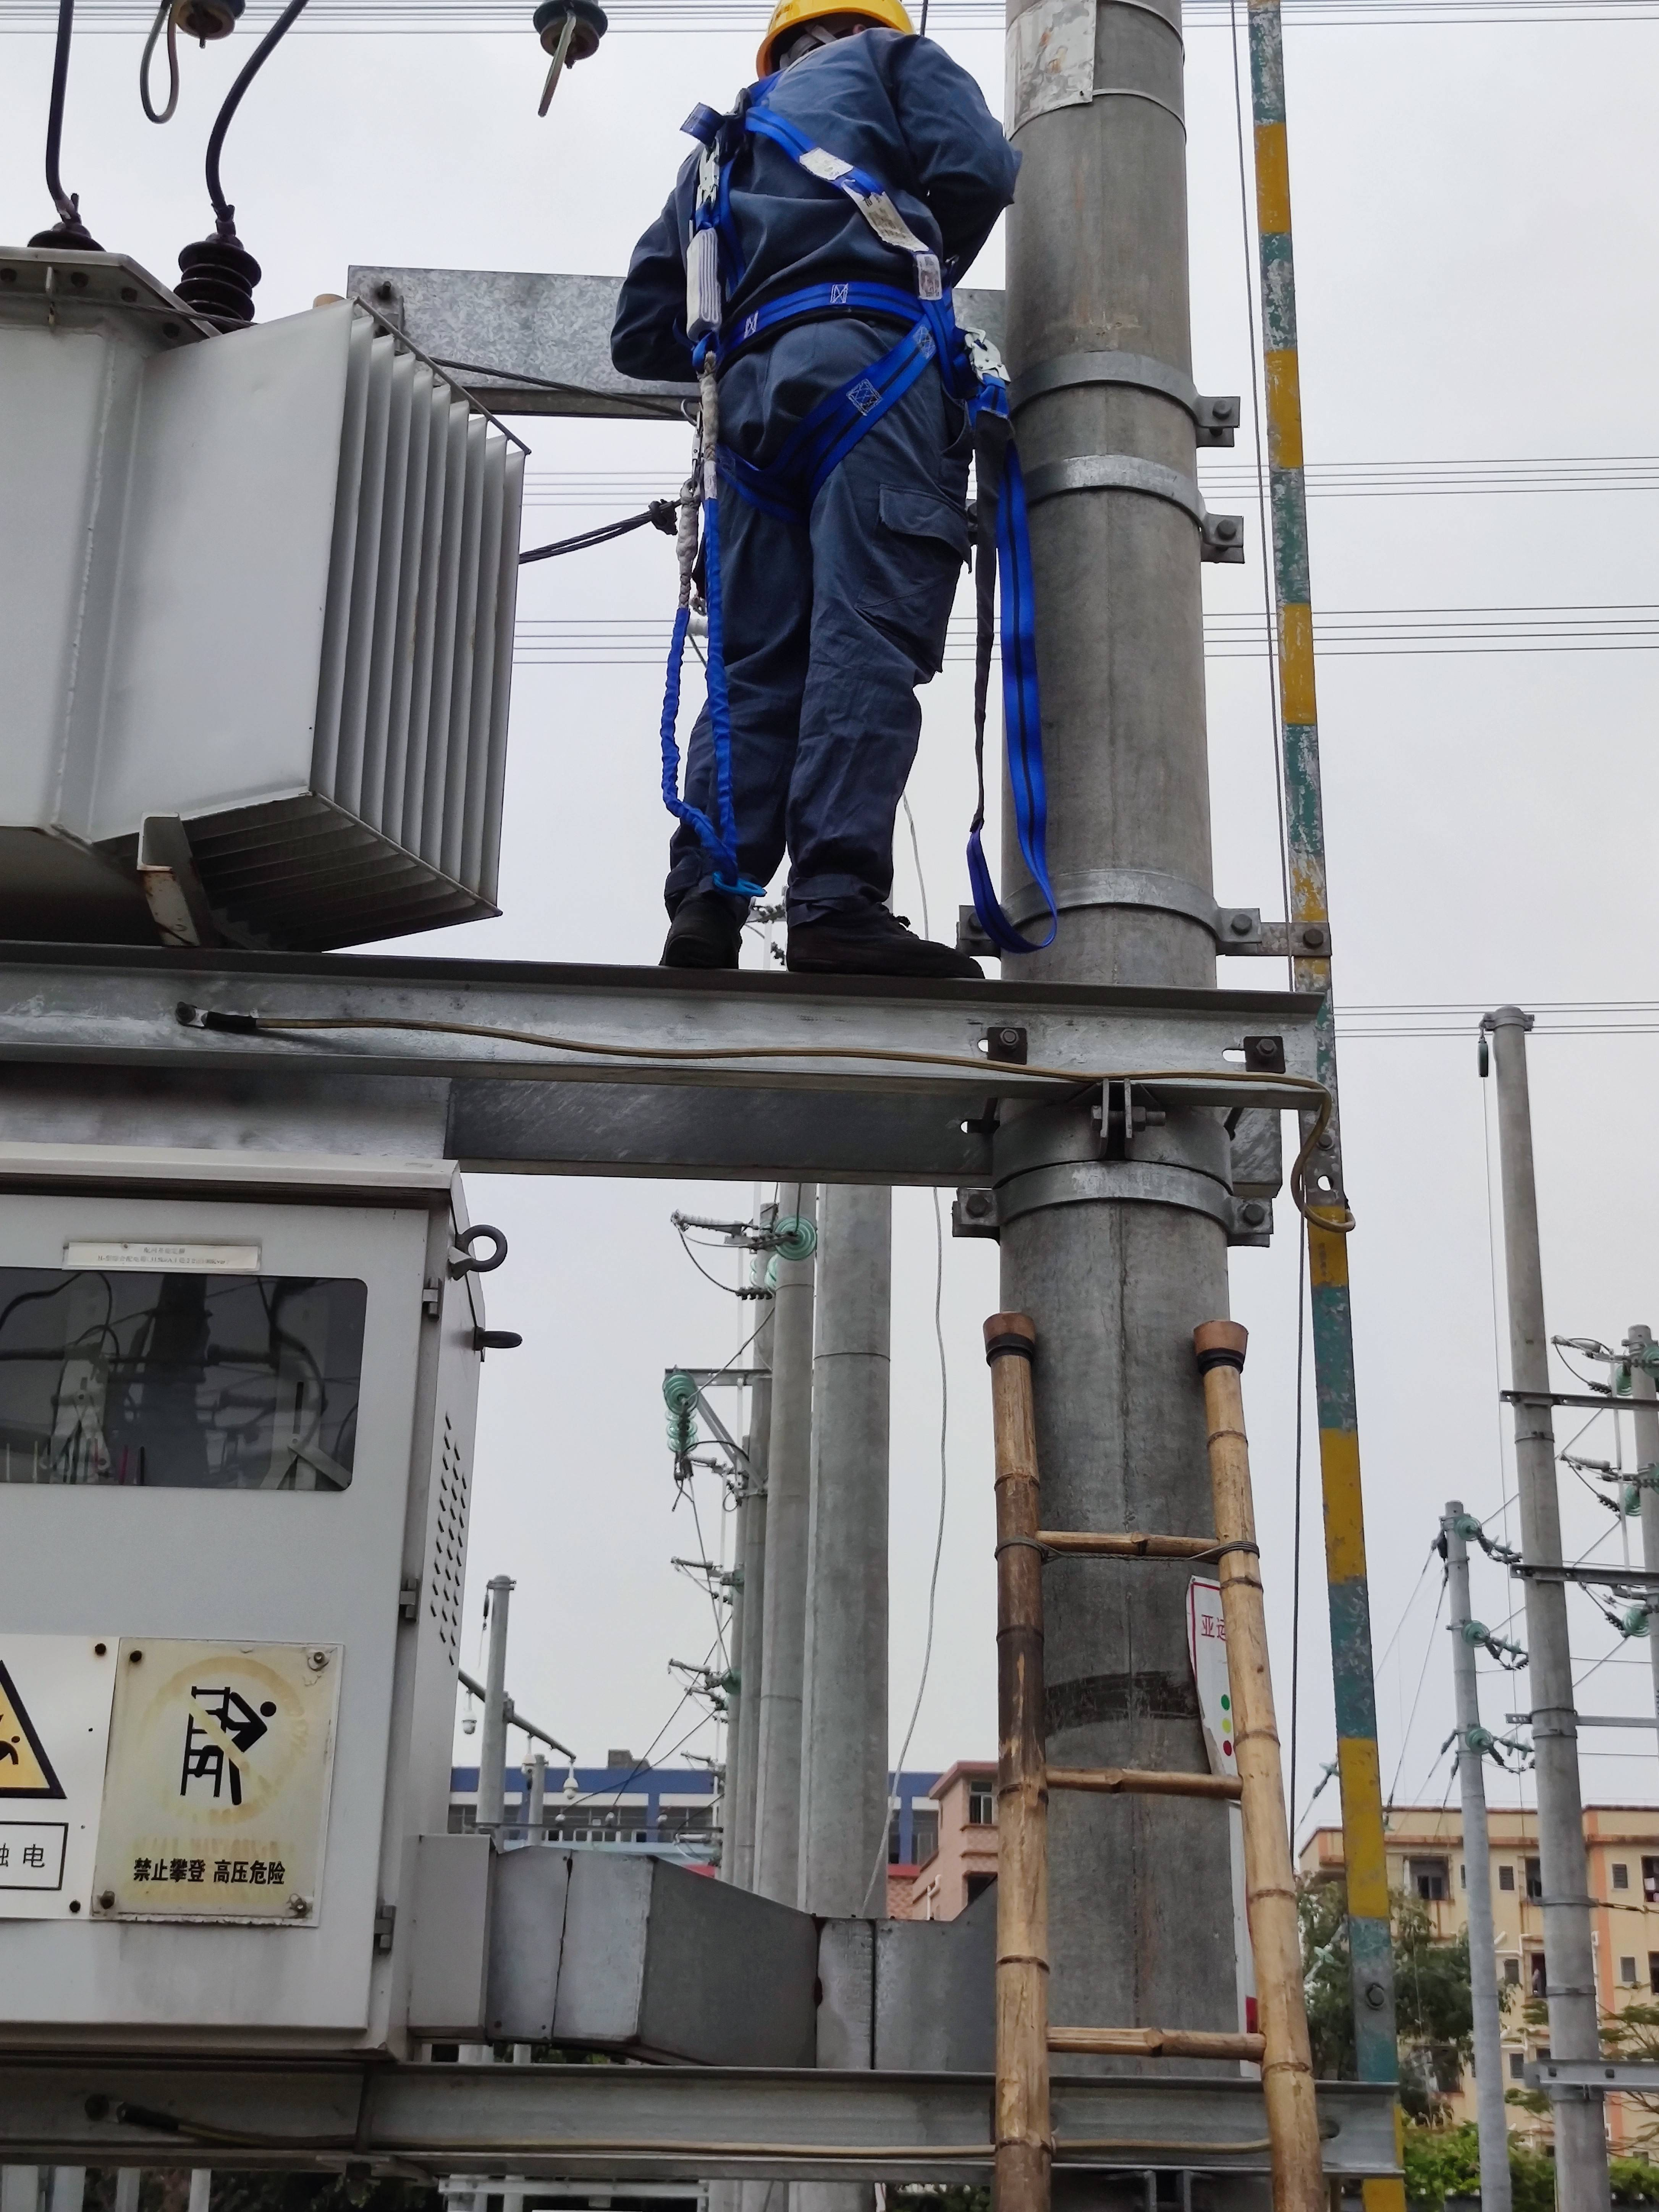downsuit: (657, 357, 983, 914)
upsuit: (603, 35, 1018, 314)
